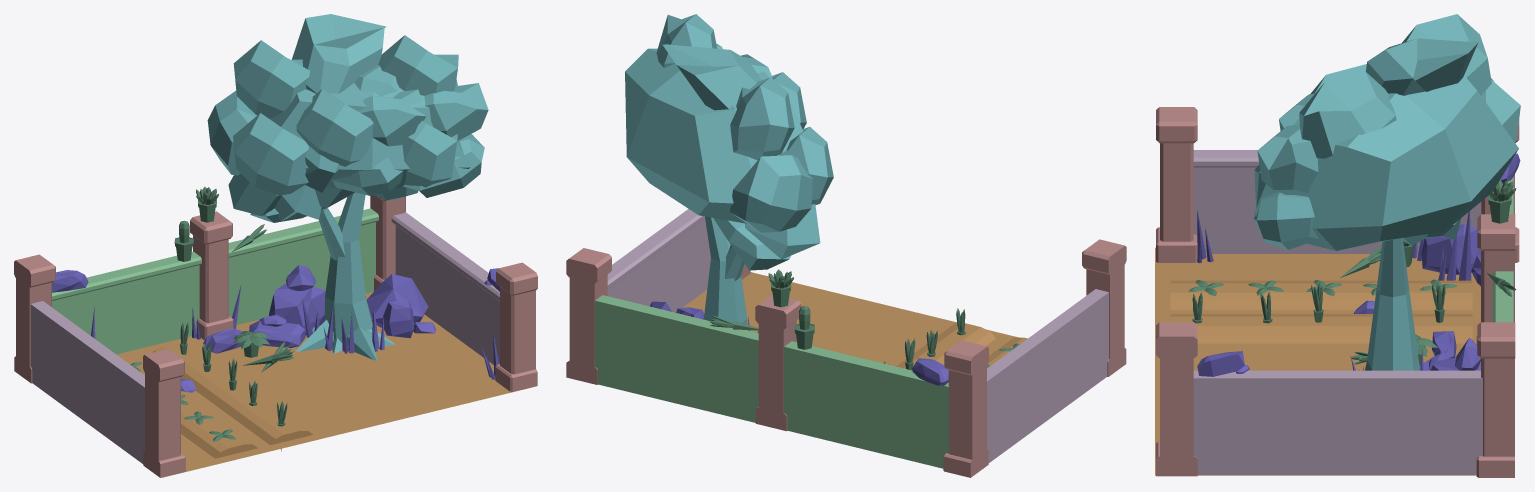
The model's file is outside_fixed_mesh.fbx.
3 renders of one model, left to right at view 1: azimuth 30°, elevation 25°; view 2: azimuth 150°, elevation 25°; view 3: azimuth 270°, elevation 25°, orthographic. The views are drawn at different scales.
Visible parts, largest first — view 1: polySurface1, polySurface30, wall_long_modular, Wall2_Modula1, Wall2_Modula, Pillar_backed3, Pillar_backed, pCylinder2, Pillar_backed4, Pillar_backed2, pCylinder1, Pillar_backed1 (+10 smaller); view 2: polySurface1, wall_long_modular, Wall2_Modula1, polySurface30, Wall2_Modula, Pillar_backed2, Pillar_backed1, Pillar_backed4, Pillar_backed, pCylinder2, stones_and_grass stone10, plants potted_plant (+1 smaller); view 3: polySurface1, Wall2_Modula, polySurface30, Wall2_Modula1, pCylinder2, pCylinder1, Pillar_backed, Pillar_backed3, Pillar_backed1, Pillar_backed4, stones_and_grass stone1, wall_long_modular (+7 smaller).
Boxes of the visible parts, x1,y1,x2,y2 form: polySurface1: (207,14,488,360); polySurface30: (116,292,536,477); wall_long_modular: (52,208,378,354); Wall2_Modula1: (30,301,144,463); Wall2_Modula: (391,212,499,364); Pillar_backed3: (495,262,537,391); Pillar_backed: (143,349,185,477); pCylinder2: (152,342,313,445); Pillar_backed4: (190,211,233,340); Pillar_backed2: (14,254,55,383); pCylinder1: (119,355,257,458); Pillar_backed1: (370,195,405,290); polySurface1: (625,14,833,324); wall_long_modular: (595,295,948,468); Wall2_Modula1: (987,289,1108,462); polySurface30: (682,272,1017,366); Wall2_Modula: (607,209,710,312); Pillar_backed2: (943,340,988,477); Pillar_backed1: (566,248,611,384); Pillar_backed4: (755,294,801,431); Pillar_backed: (1082,239,1126,376); pCylinder2: (896,323,995,368); stones_and_grass stone10: (912,358,948,385); plants potted_plant: (768,269,793,307); polySurface1: (1254,14,1520,370); Wall2_Modula: (1193,370,1482,475); polySurface30: (1155,247,1480,475); Wall2_Modula1: (1193,150,1481,253); pCylinder2: (1170,314,1472,343); pCylinder1: (1170,280,1472,309); Pillar_backed: (1156,107,1197,262); Pillar_backed3: (1156,322,1197,476); Pillar_backed1: (1476,322,1515,477); Pillar_backed4: (1476,214,1515,345); stones_and_grass stone1: (1421,224,1480,274); wall_long_modular: (1492,177,1513,322).
Bounding box in the file's own units: 258 × 172 × 208.
